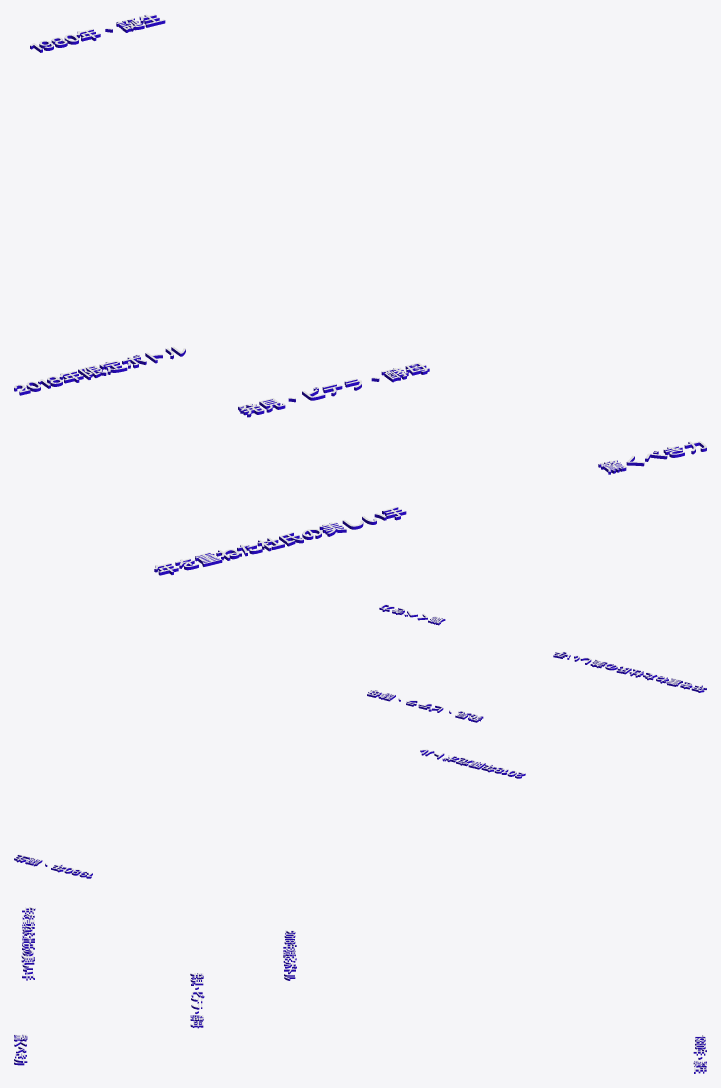
The model's file is Multi_ID_3D_Text.FBX.
3 views of the same model, one above another, from view 1: azimuth 30°, elevation 25°; view 2: azimuth 150°, elevation 25°; view 3: azimuth 270°, elevation 25° (orthographic). The views are drawn at different scales.
Bounding box in the file's own units: 45.73 × 0.2362 × 81.16.
